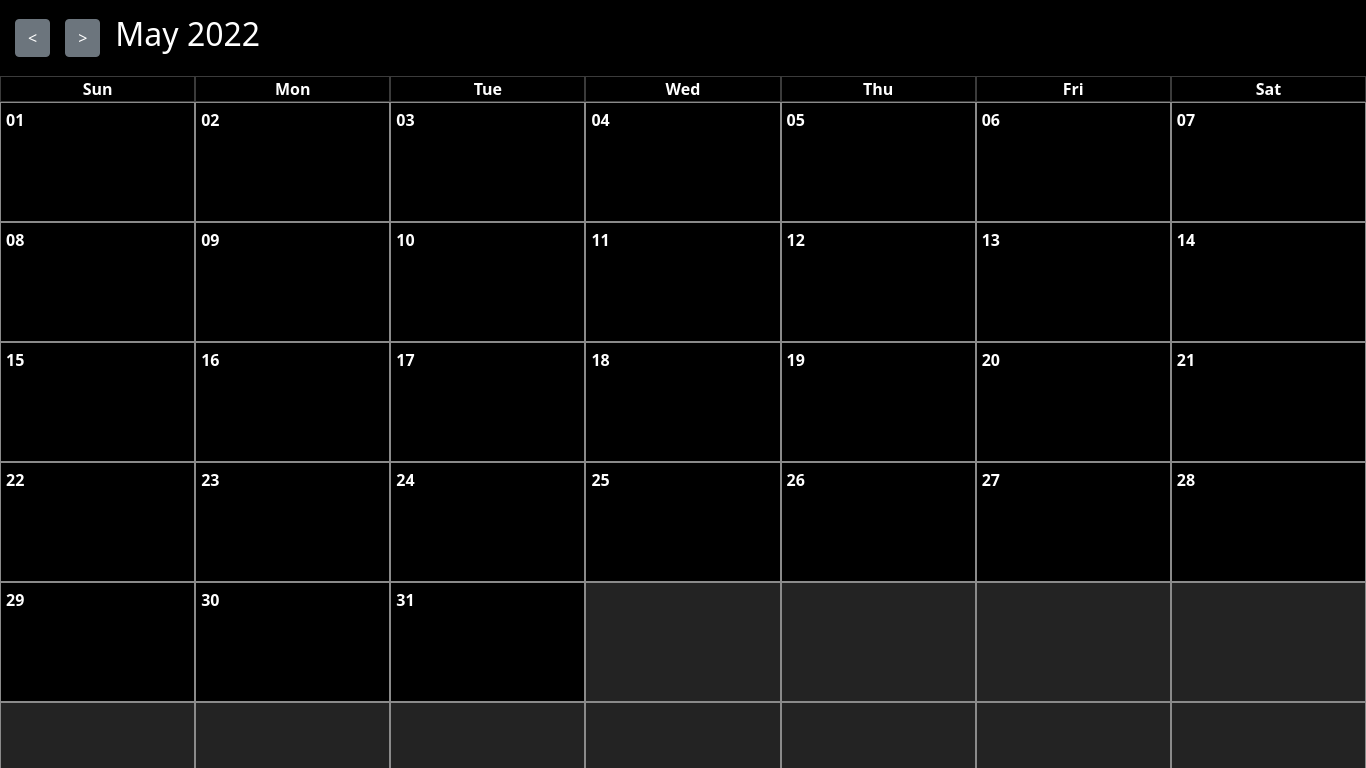
should add a new reminder in the list when the form is filled and the add button is clicked
The width and height of the screenshot is (1366, 768).
Click the element showing "01": (98, 162) [0,102,195,222]
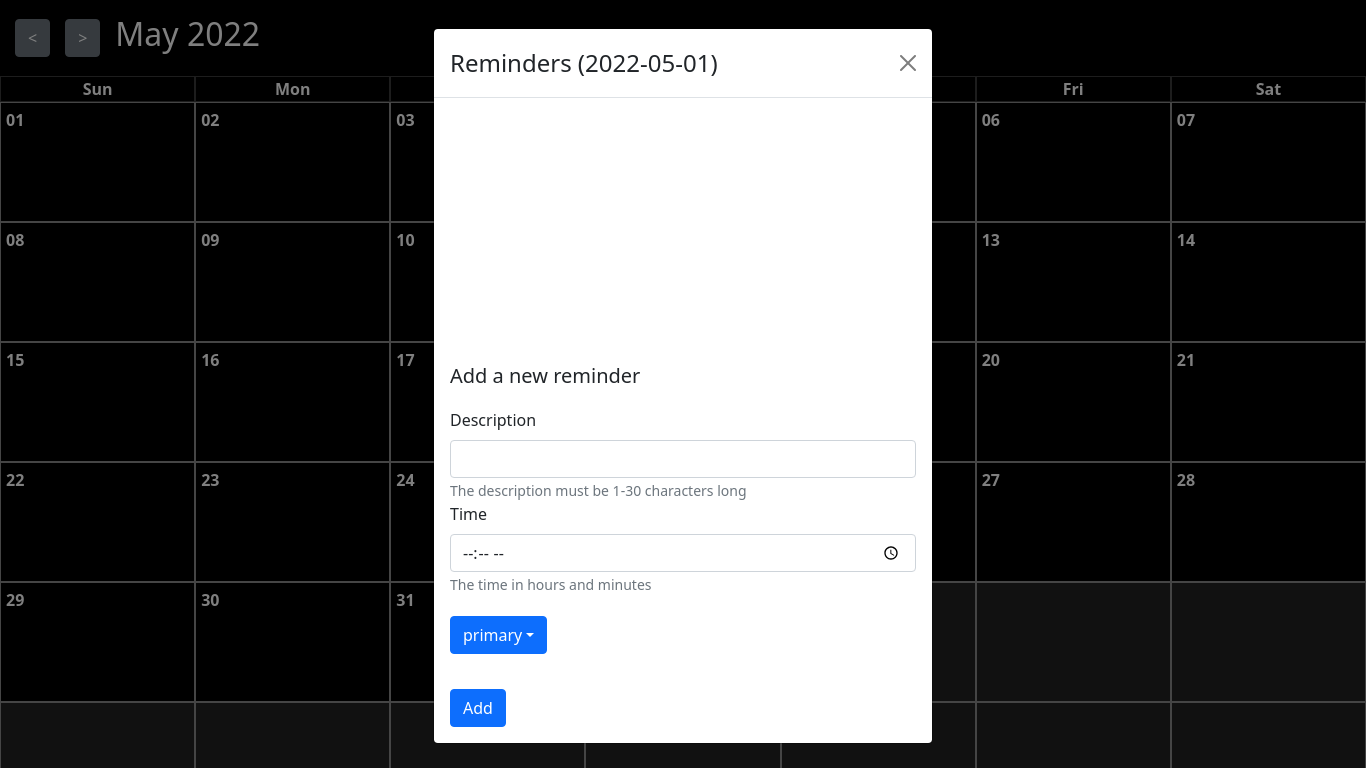
In the field with test id "reminder-description-input": (683, 459) [450,440,916,478], type "Something to do"
Then press Enter
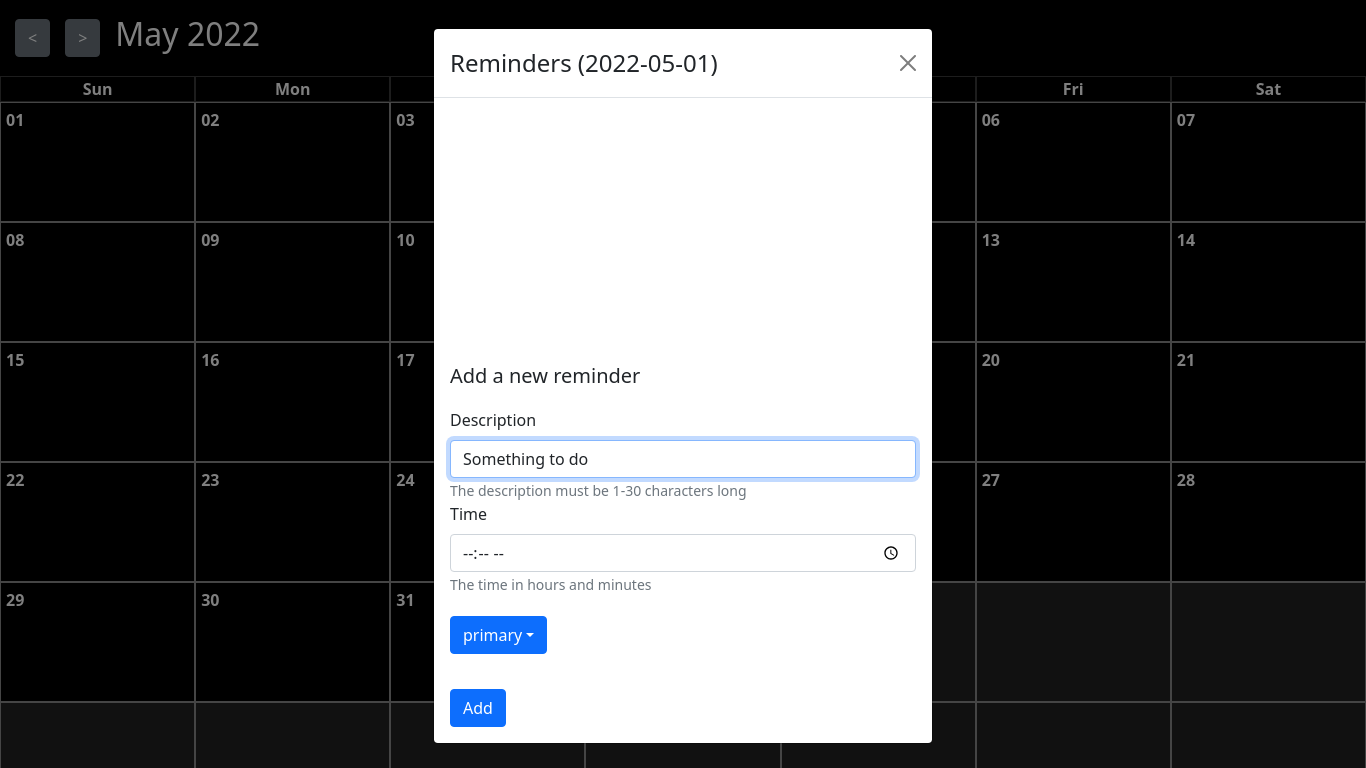
In the time field with test id "reminder-time-input": (683, 553) [450,534,916,572], type "2000"
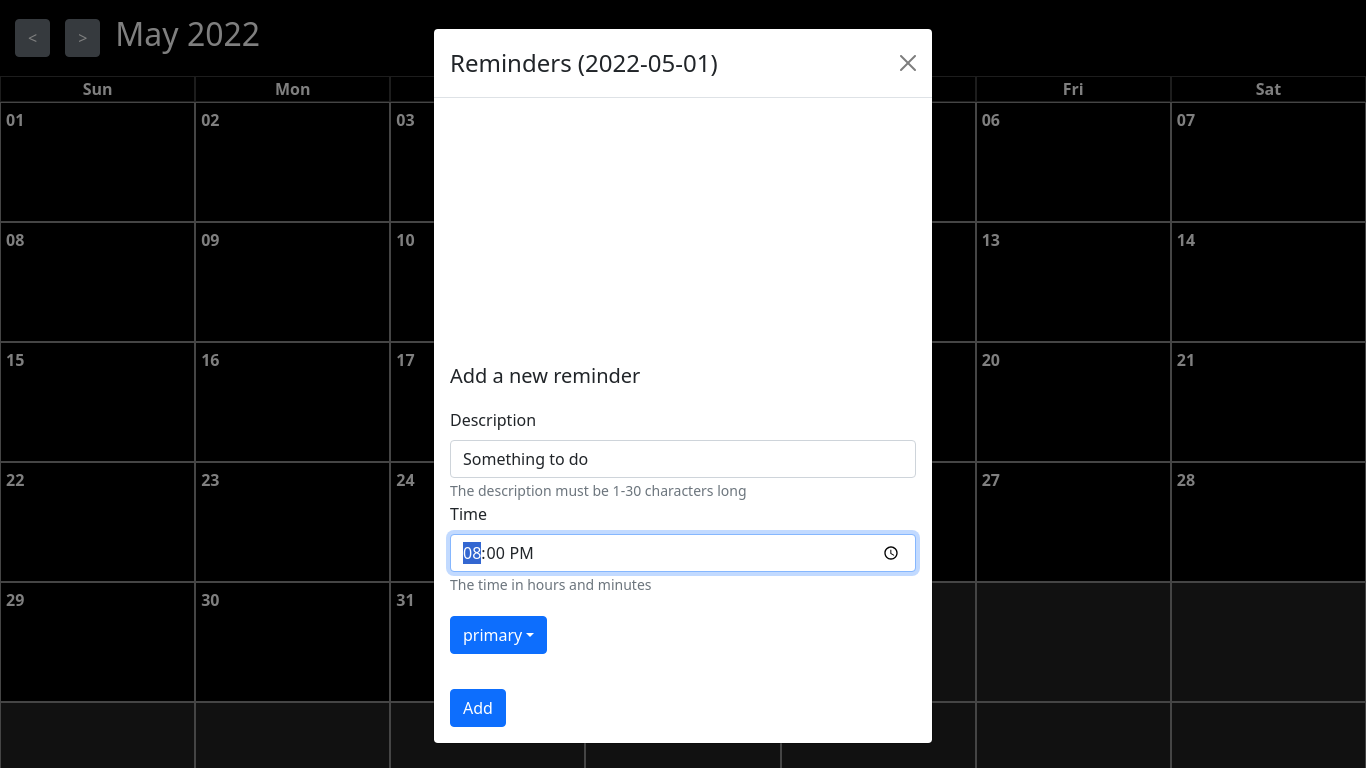
Click the button with test id "reminder-primary-action-button": (478, 708) [450,689,506,727]
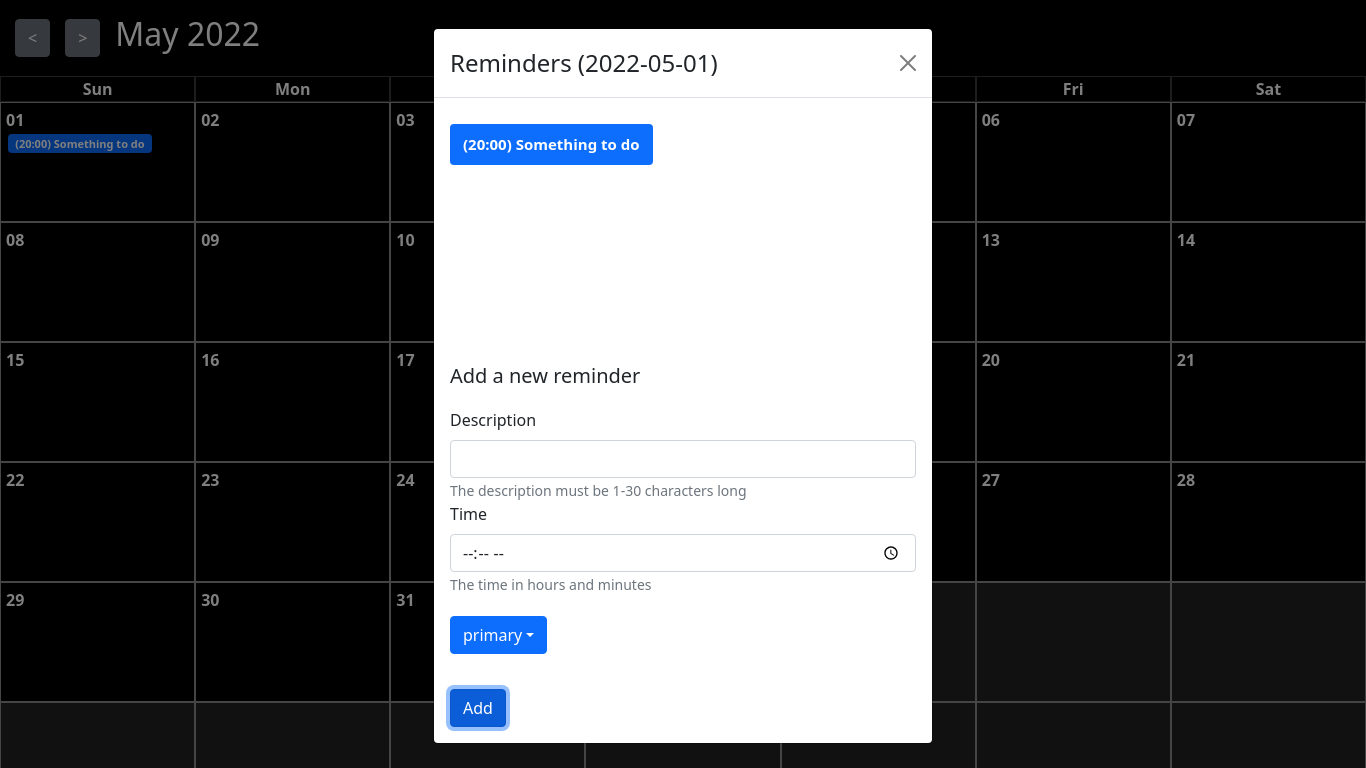
Expected: the element showing "(20:00) Something to do" is shown, [450,124,652,165]
